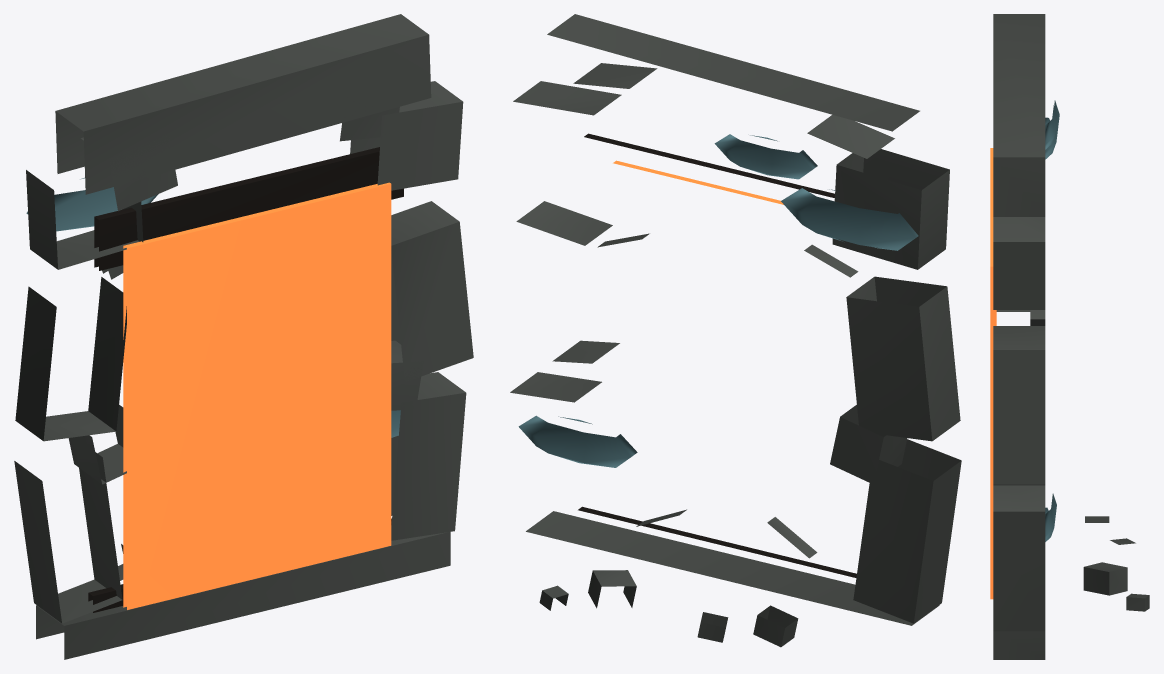
File: nest_breach.glb
3 views of the same model, side by side, from view 1: azimuth 30°, elevation 25°; view 2: azimuth 150°, elevation 25°; view 3: azimuth 270°, elevation 25° (orthographic). The views are drawn at different scales.
Parts seen in each view (by area): view 1: NestBreach_Mesh; view 2: NestBreach_Mesh; view 3: NestBreach_Mesh.
Part boxes in pixels (box(x1,y1,x2,y2)): NestBreach_Mesh: box(14, 14, 473, 659); NestBreach_Mesh: box(510, 14, 961, 647); NestBreach_Mesh: box(990, 14, 1149, 659).
Bounding box in the file's own units: 2.12 × 2.52 × 0.7389.
